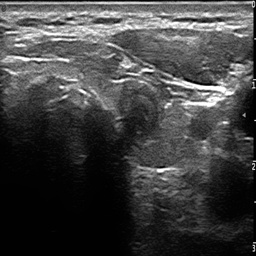mass: (120, 81, 158, 136)
